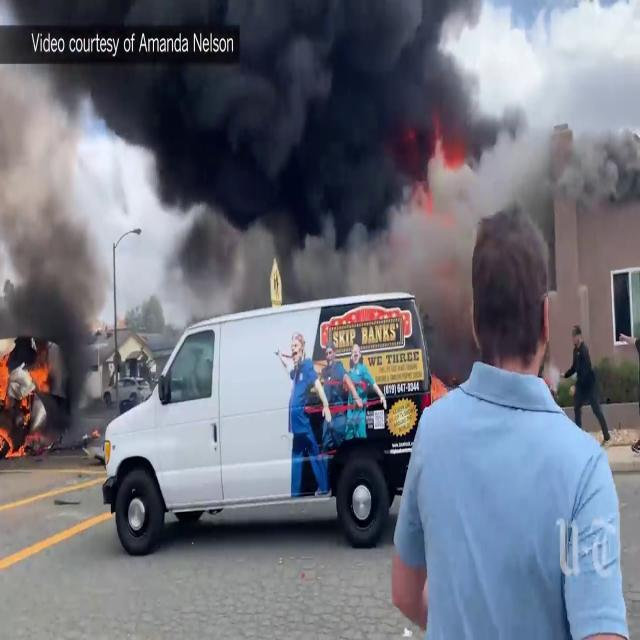Fire: (0, 340, 60, 470)
Smoke: (0, 0, 564, 333)
